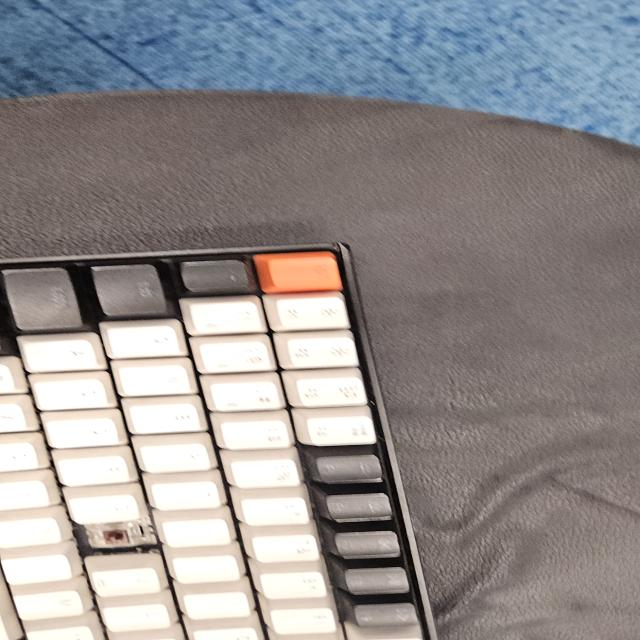C: (88, 522, 152, 554), (95, 526, 146, 548)
